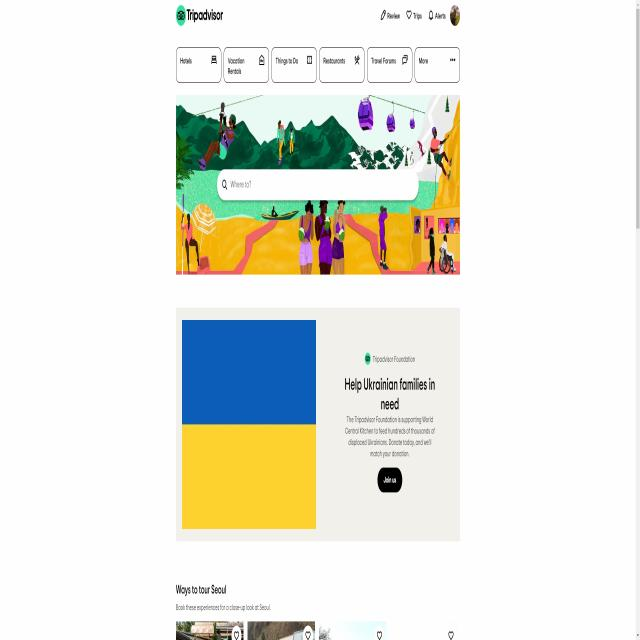menu-bar: (378, 5, 462, 34)
search: (215, 167, 420, 204)
